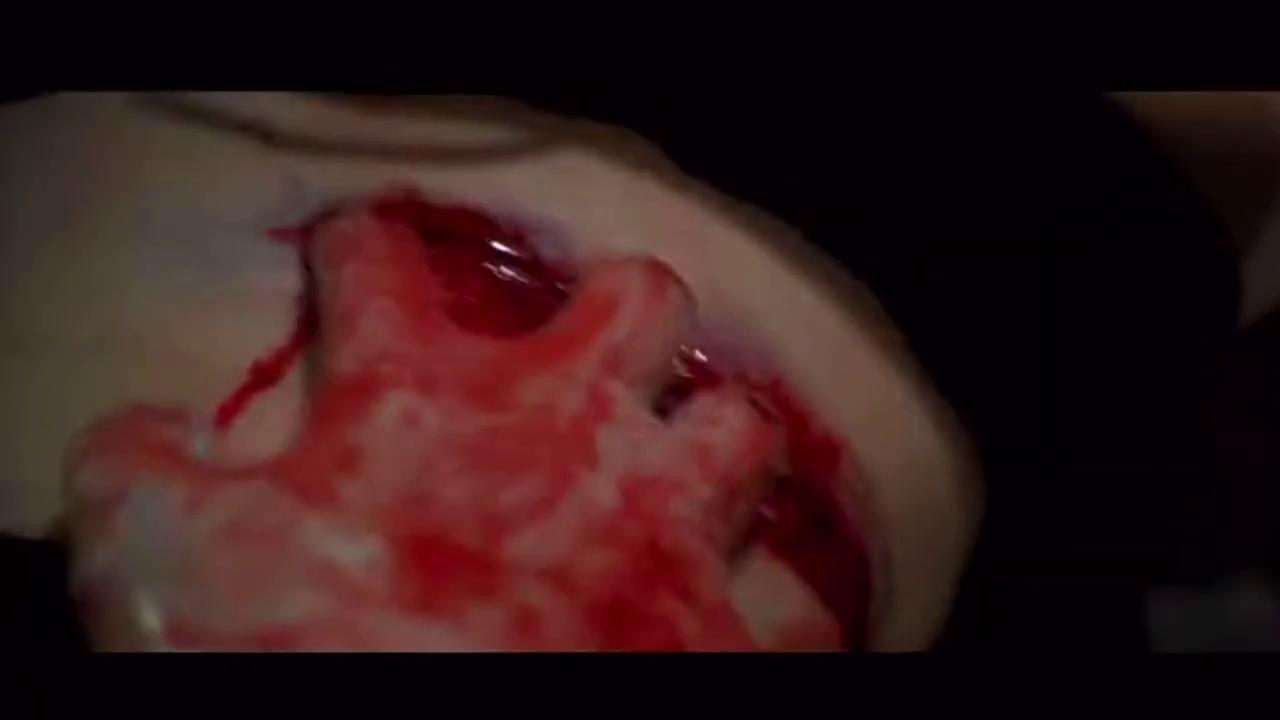Fire: (68, 187, 895, 650)
